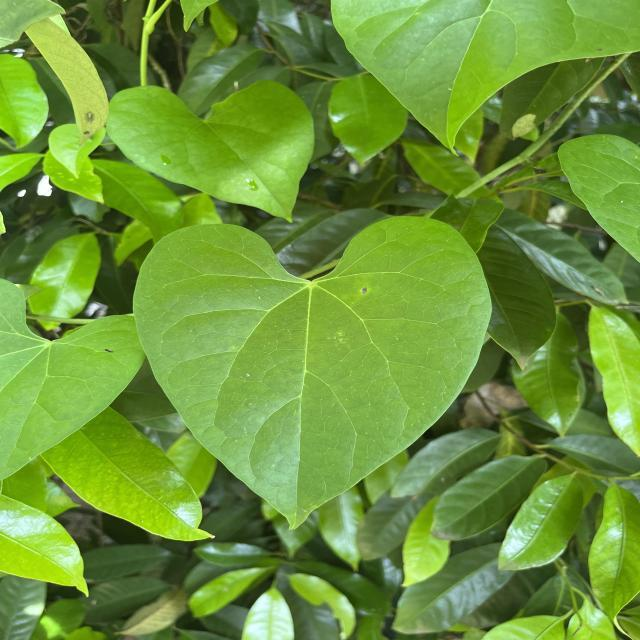Tinospora cordifolia: (130, 212, 497, 534)
